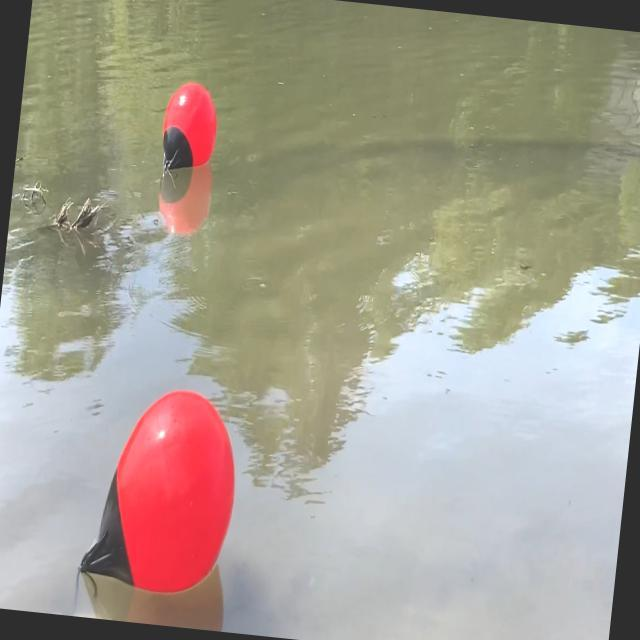buoy: (73, 377, 248, 600), (155, 76, 222, 182)
